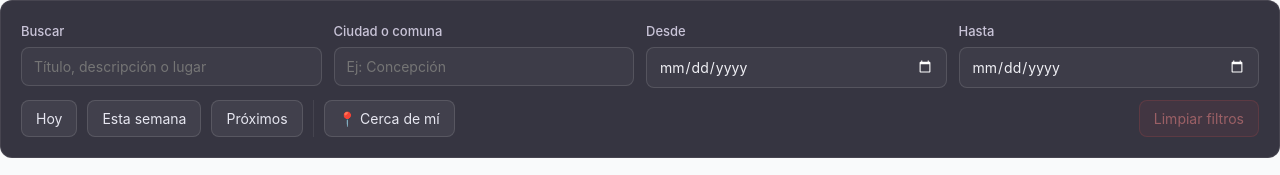
EventFilters — fechas › atajos › "Hoy" sets both dates to today
Click the button "Hoy" at (49, 118), box [21, 100, 77, 137]
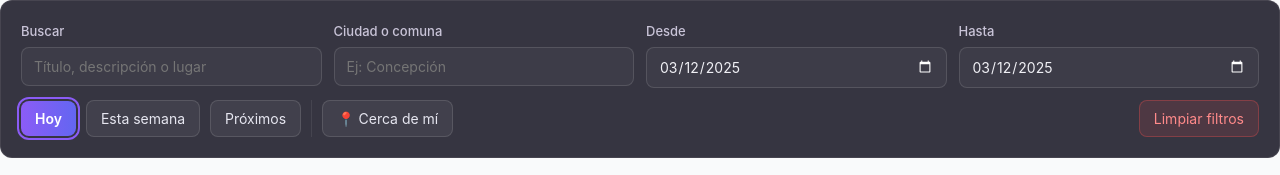
Now the date field labelled "Desde" holds "2025-03-12", box [646, 47, 946, 88]
Now the date field labelled "Hasta" holds "2025-03-12", box [958, 47, 1259, 88]
